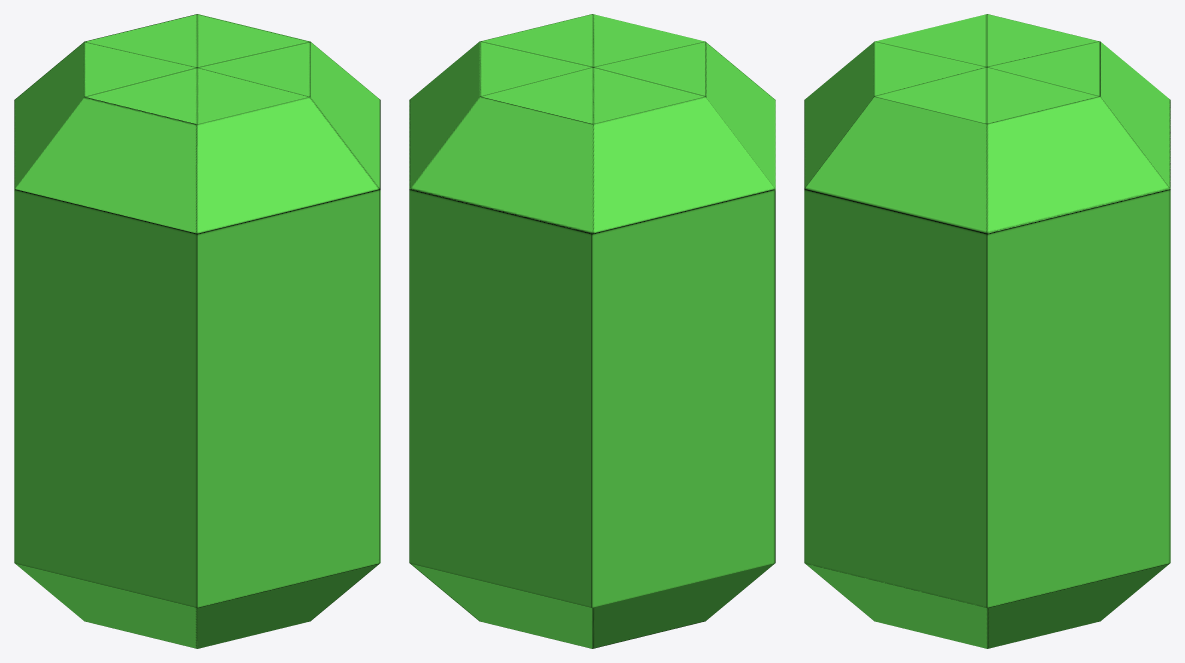
File: emerald.dae
3 renders of one model, left to right at view 1: azimuth 30°, elevation 25°; view 2: azimuth 150°, elevation 25°; view 3: azimuth 270°, elevation 25°, orthographic.
Visible parts, largest first — view 1: Emerald; view 2: Emerald; view 3: Emerald.
Part boxes in pixels (box(x1,y1,x2,y2)): Emerald: box(14, 14, 380, 648); Emerald: box(409, 14, 775, 648); Emerald: box(804, 14, 1170, 648).
Size of the model in its own units: 0.1402 by 0.1214 by 0.1933.
1 material, 1 textured.
